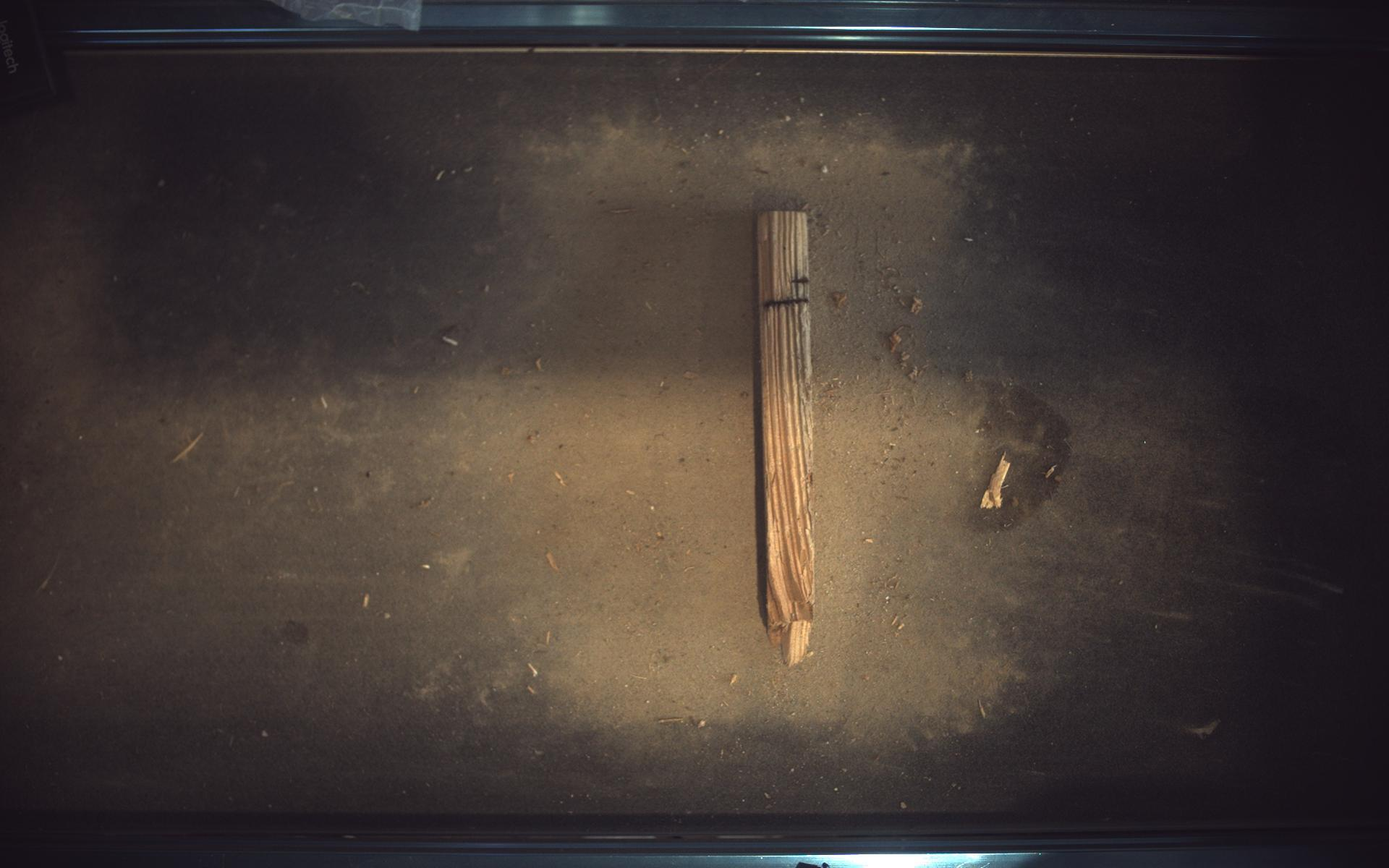wood: (757, 210, 816, 667)
